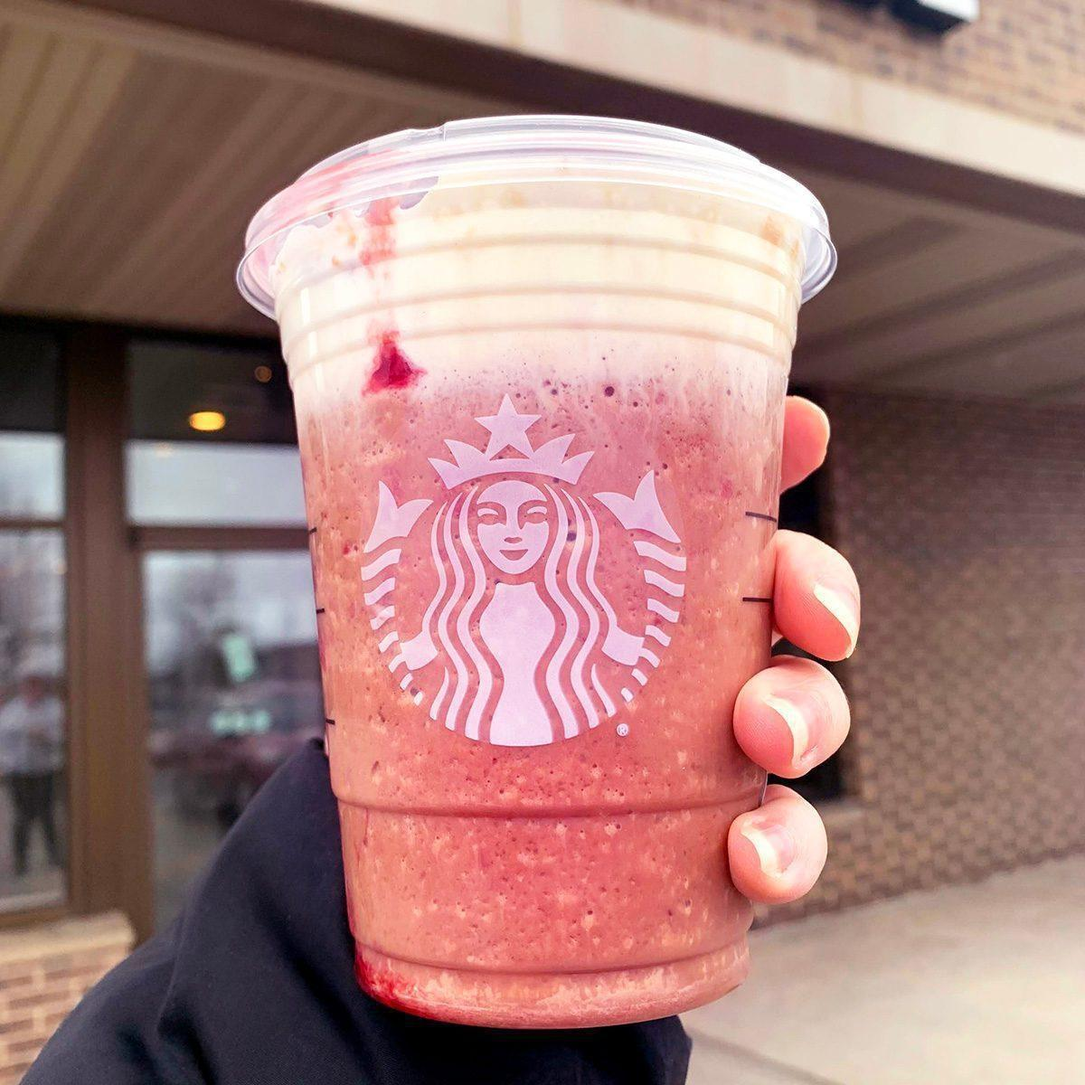cup-disposable: (234, 109, 834, 1034)
